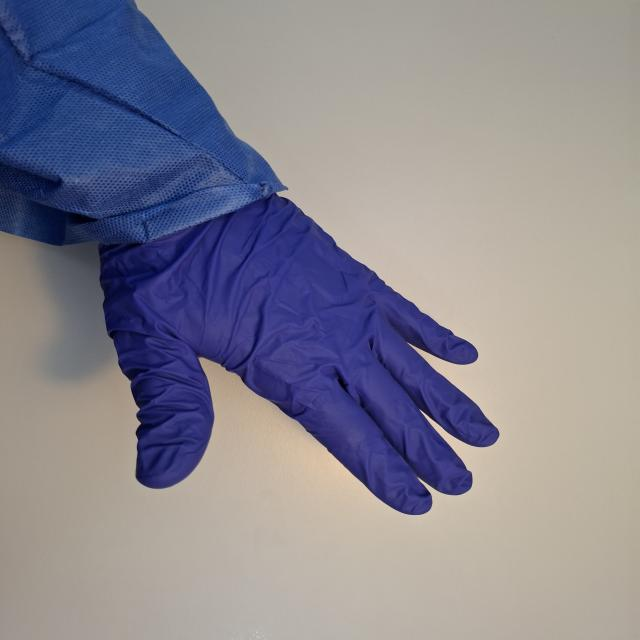glove_on: (93, 182, 504, 516)
